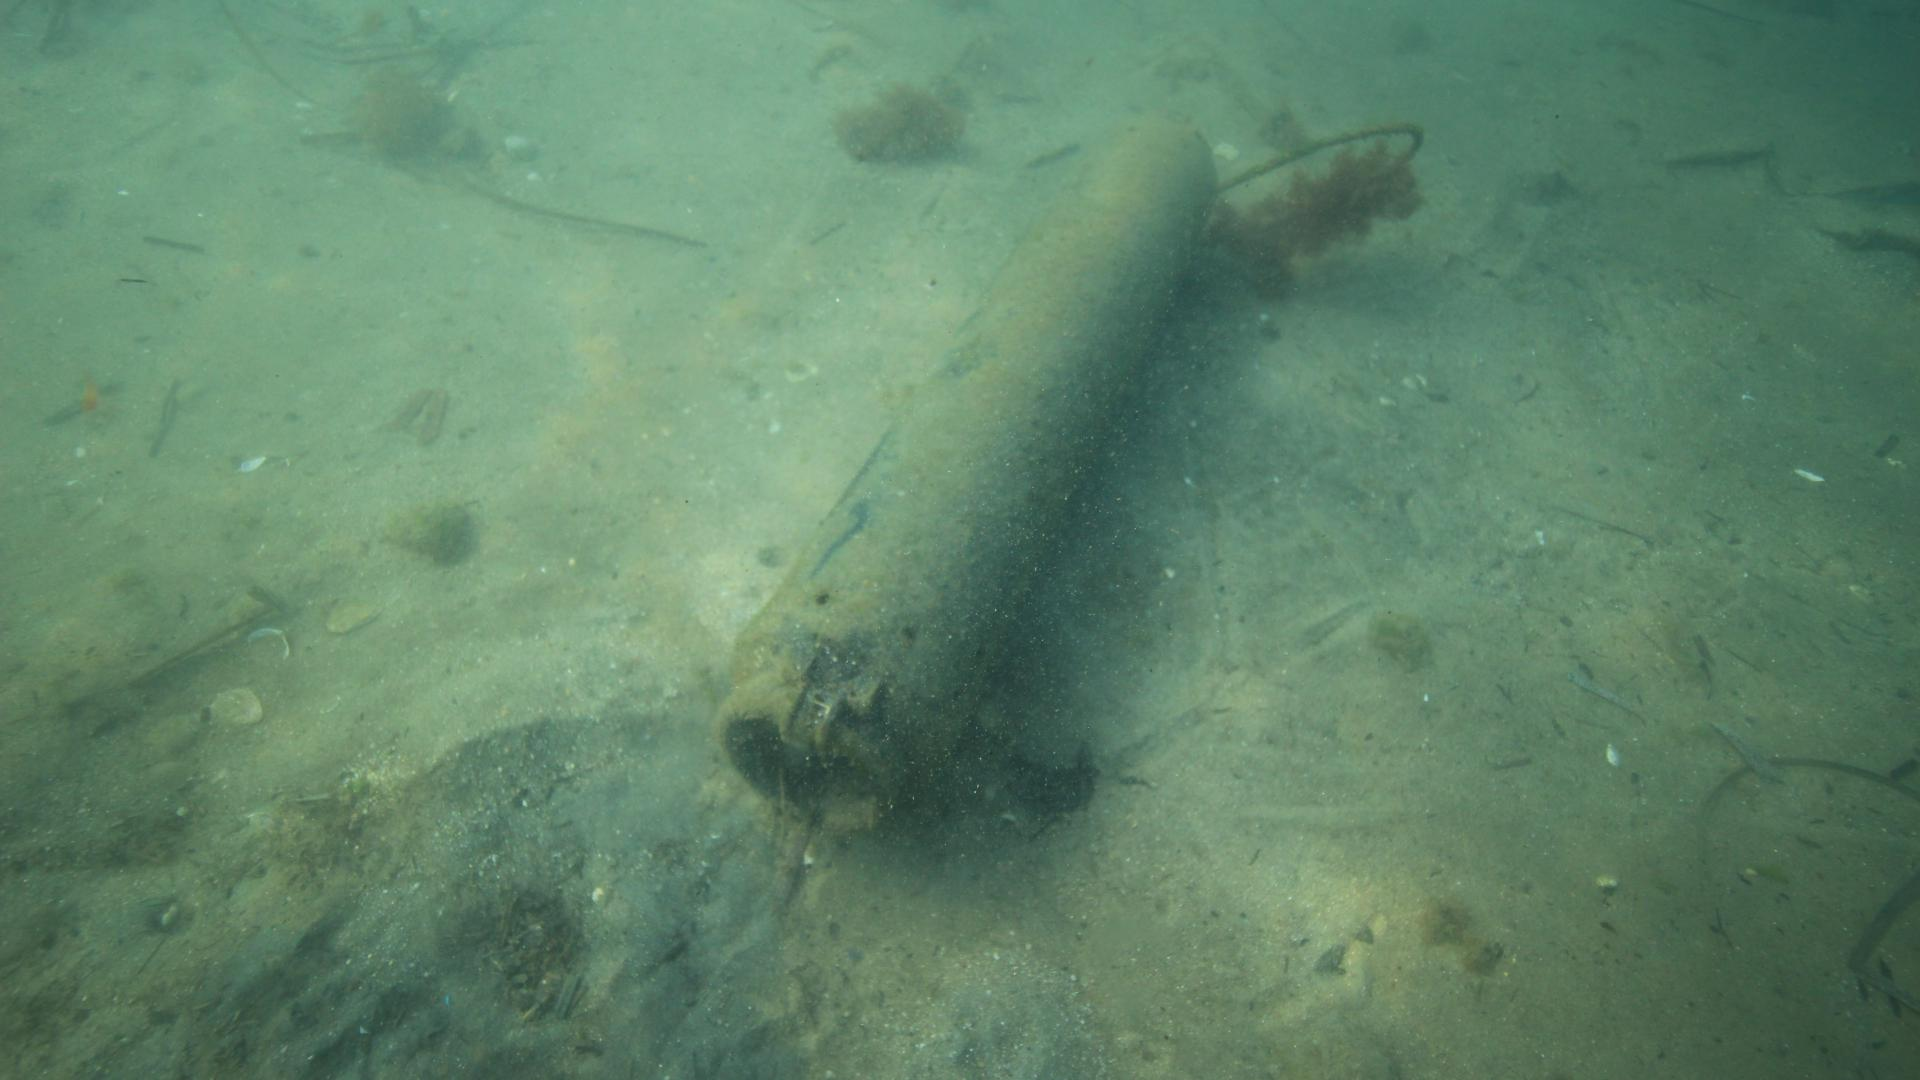eel fish trap: (704, 109, 1218, 825)
rope: (1207, 113, 1425, 202)
